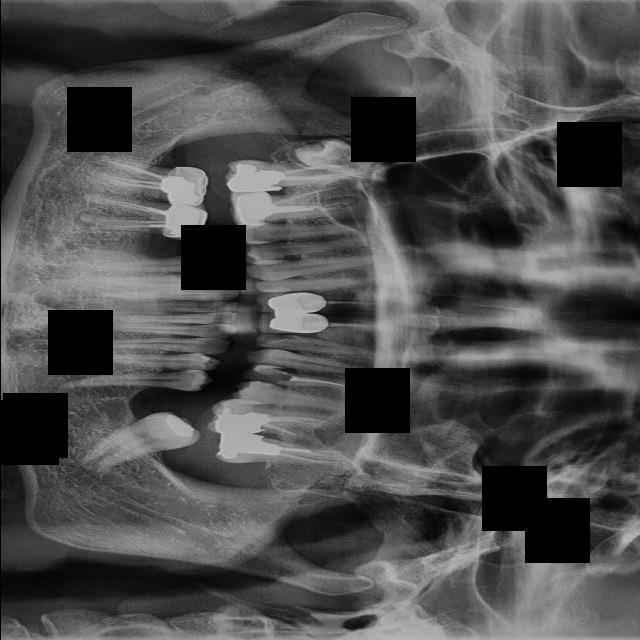71: (275, 201, 319, 212), (144, 206, 167, 216), (281, 447, 310, 452), (149, 224, 164, 228)
74: (273, 185, 336, 206), (105, 159, 165, 180), (290, 376, 362, 391), (278, 452, 338, 467), (102, 177, 162, 191), (102, 201, 160, 215), (261, 421, 306, 439), (282, 163, 340, 175), (102, 174, 160, 186), (270, 416, 332, 423), (280, 174, 351, 180), (271, 418, 321, 425), (327, 300, 389, 304), (102, 219, 164, 223), (329, 322, 382, 326), (303, 452, 336, 458), (110, 224, 150, 228)
NucleOSS Implant: (226, 162, 287, 201), (215, 428, 280, 460), (213, 407, 270, 439), (162, 412, 196, 443)
Sterngold Implant: (244, 367, 292, 386), (261, 332, 298, 343), (274, 344, 292, 351)
Zimmer Implant: (162, 201, 212, 245), (160, 165, 209, 209), (231, 191, 276, 229), (258, 312, 328, 334), (255, 293, 326, 314)
